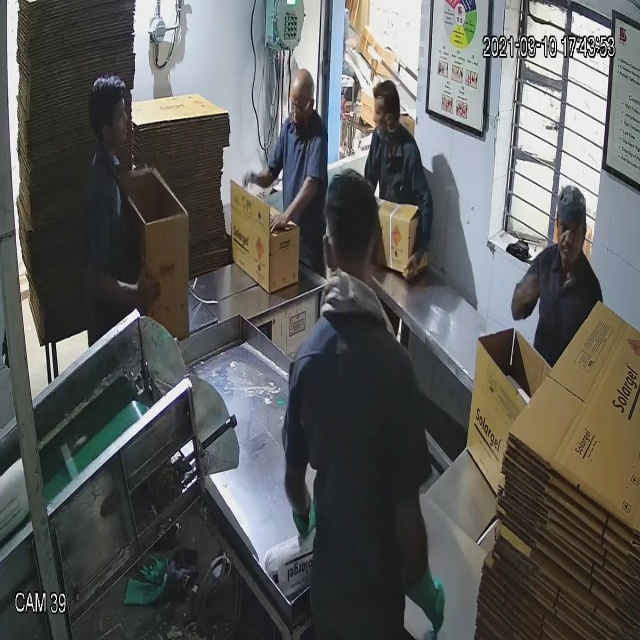Sin_guantes: (75, 236, 169, 332), (266, 181, 326, 249)
